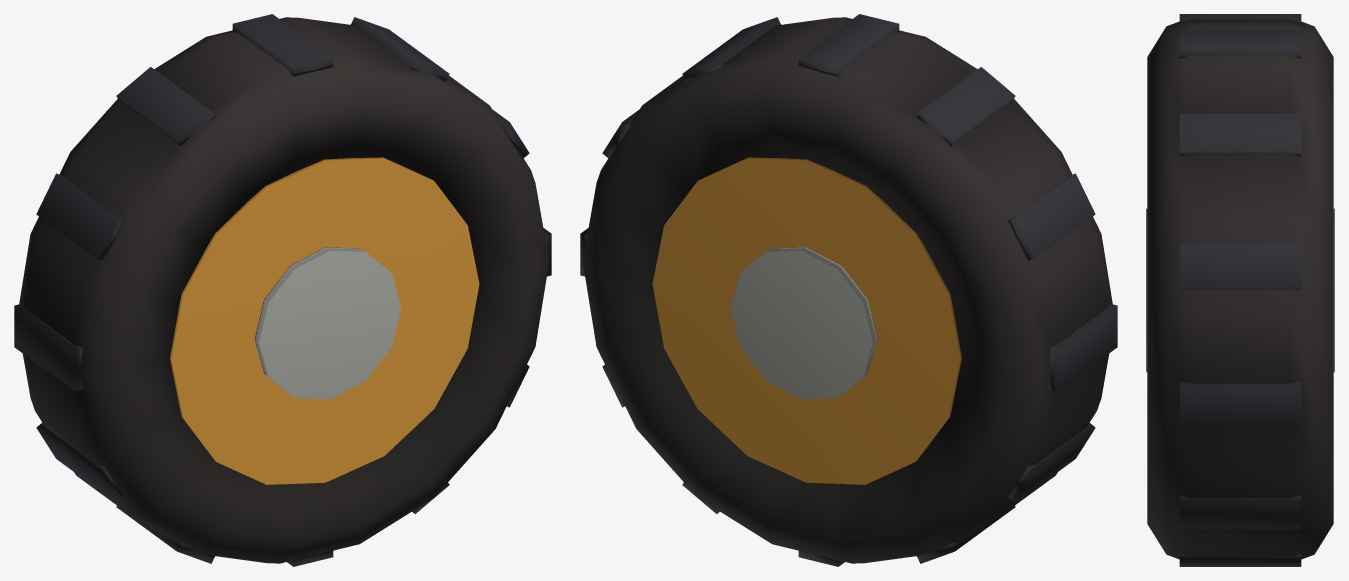
File: wheel_van.glb
3 renders of one model, left to right at view 1: azimuth 30°, elevation 25°; view 2: azimuth 150°, elevation 25°; view 3: azimuth 270°, elevation 25°, orthographic.
Visible parts, largest first — view 1: Deep rubber tread; view 2: Deep rubber tread; view 3: Deep rubber tread.
Part boxes in pixels (x1,y1,x2,y2): Deep rubber tread: (14,14,551,566); Deep rubber tread: (580,14,1117,566); Deep rubber tread: (1146,14,1334,566).
Size of the model in its own units: 1.01 by 1.01 by 0.3448.
